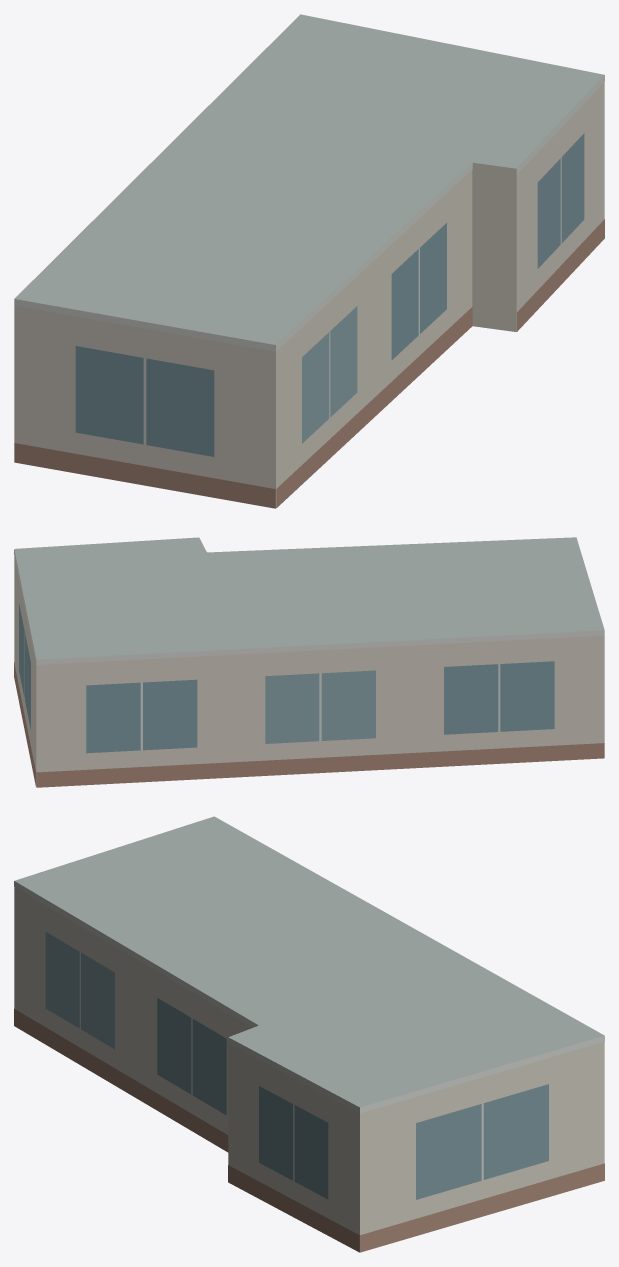
Rendered from survey-upis-32636038.glb.
3 views of the same model, one above another, from view 1: azimuth 30°, elevation 25°; view 2: azimuth 150°, elevation 25°; view 3: azimuth 270°, elevation 25° (orthographic). The views are drawn at different scales.
Parts seen in each view (by area): view 1: survey-upis-32636038.tmp; view 2: survey-upis-32636038.tmp; view 3: survey-upis-32636038.tmp.
Part boxes in pixels (x1,y1,x2,y2): survey-upis-32636038.tmp: (14,14,604,508); survey-upis-32636038.tmp: (14,537,604,787); survey-upis-32636038.tmp: (14,816,604,1252).
Size of the model in its own units: 13.13 by 3.05 by 11.26.
